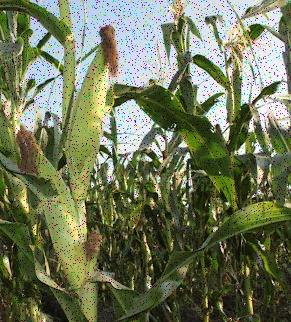corn_plant: (16, 131, 89, 291), (74, 24, 120, 201)
